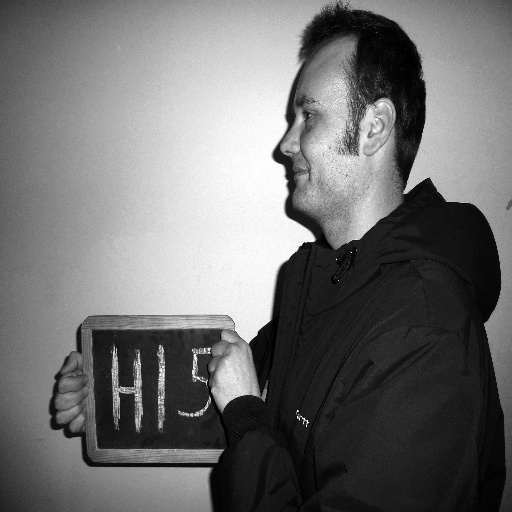hand: (199, 331, 260, 424), (51, 349, 90, 433)
